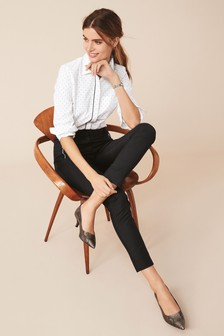feet: (129, 265, 192, 331)
